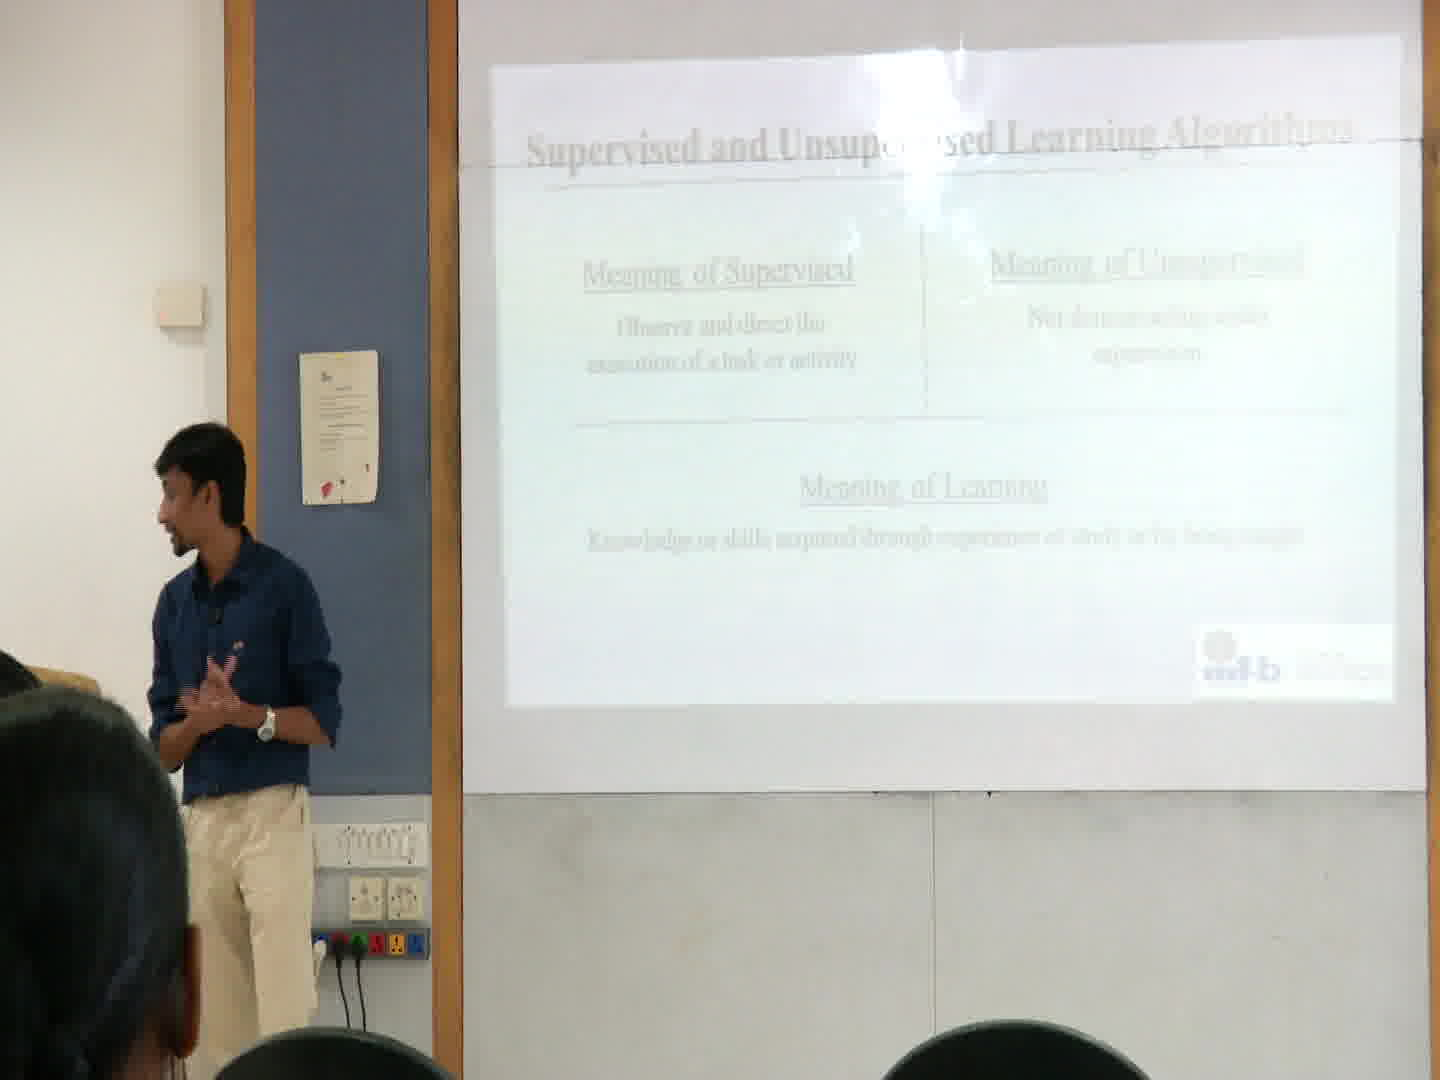slide: (492, 34, 1404, 704)
